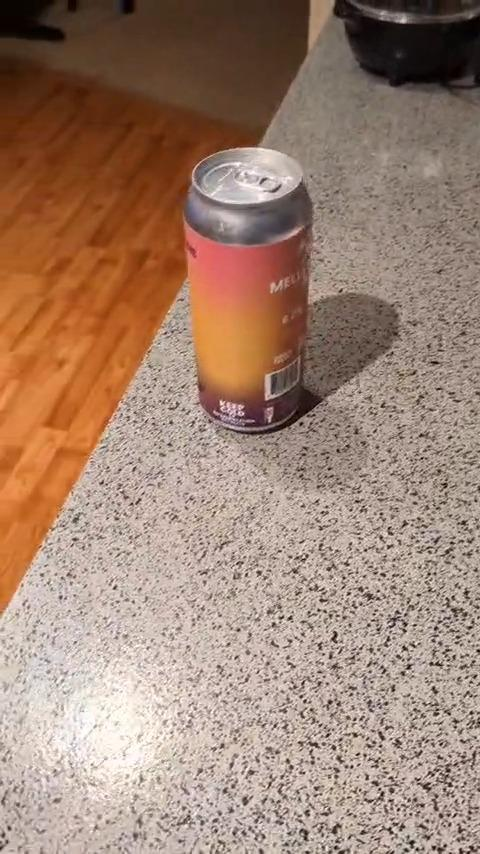metal: (185, 148, 312, 431)
